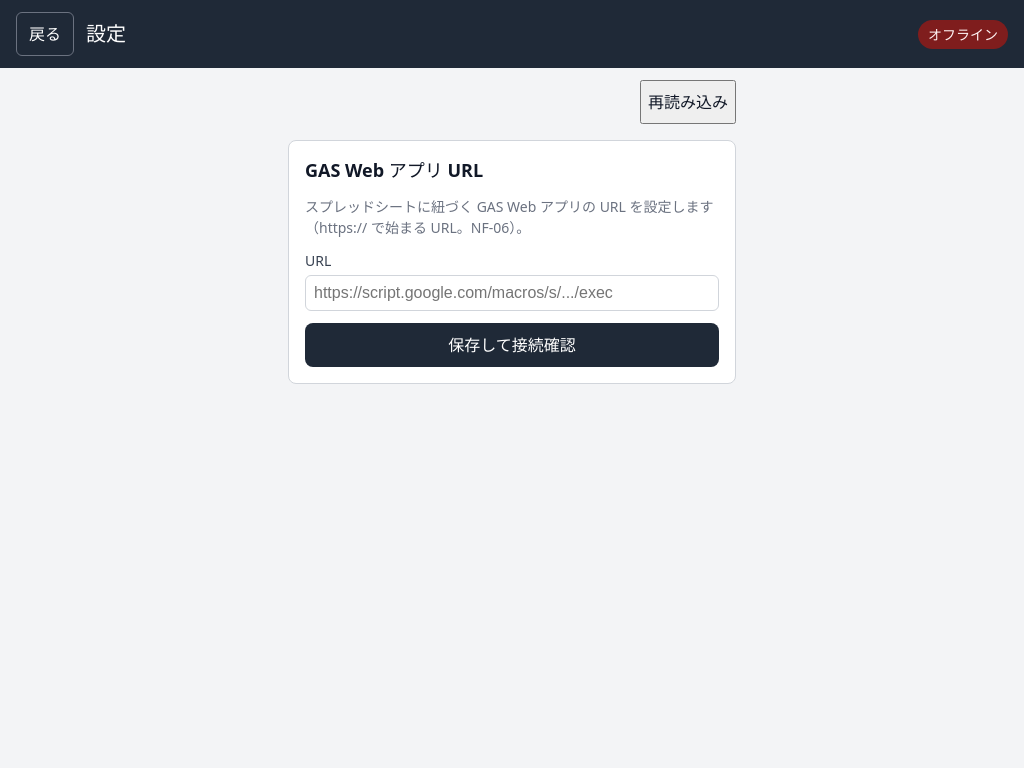
Test: GAS URL未設定（初回セットアップの最初のステップ） › pingが失敗してもエラーメッセージを表示しつつ端末登録欄には進める
Type "https://script.google.com/macros/s/FAKE/exec" into the field labelled "URL" at [512, 293], box [305,275,719,311]
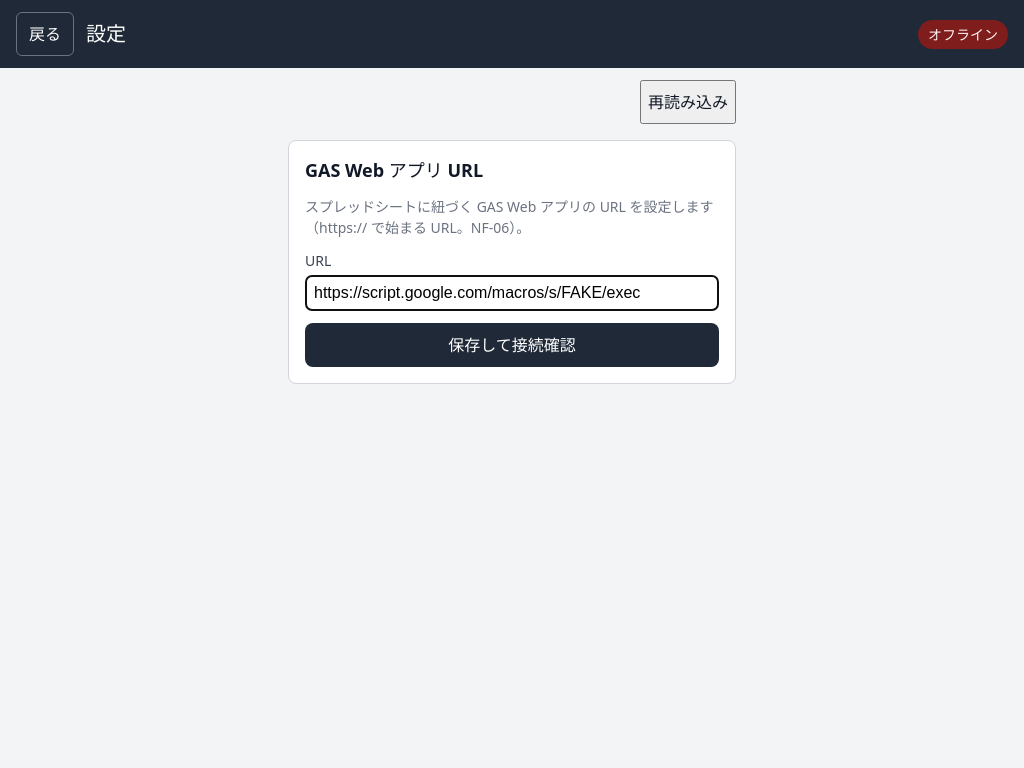
Click the button "保存して接続確認" at [512, 345], box [305,323,719,367]
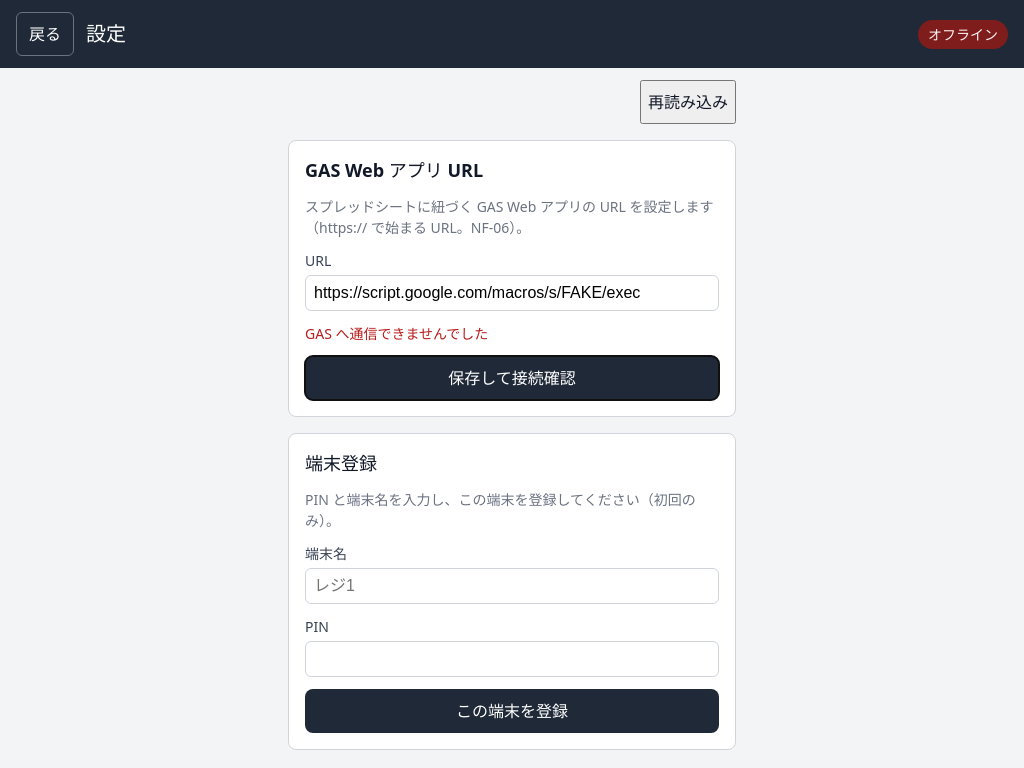
Expected: the message reads "GAS へ通信できませんでした", [305,324,488,343]
Expected: the field labelled "端末名" is shown, [305,568,719,604]
